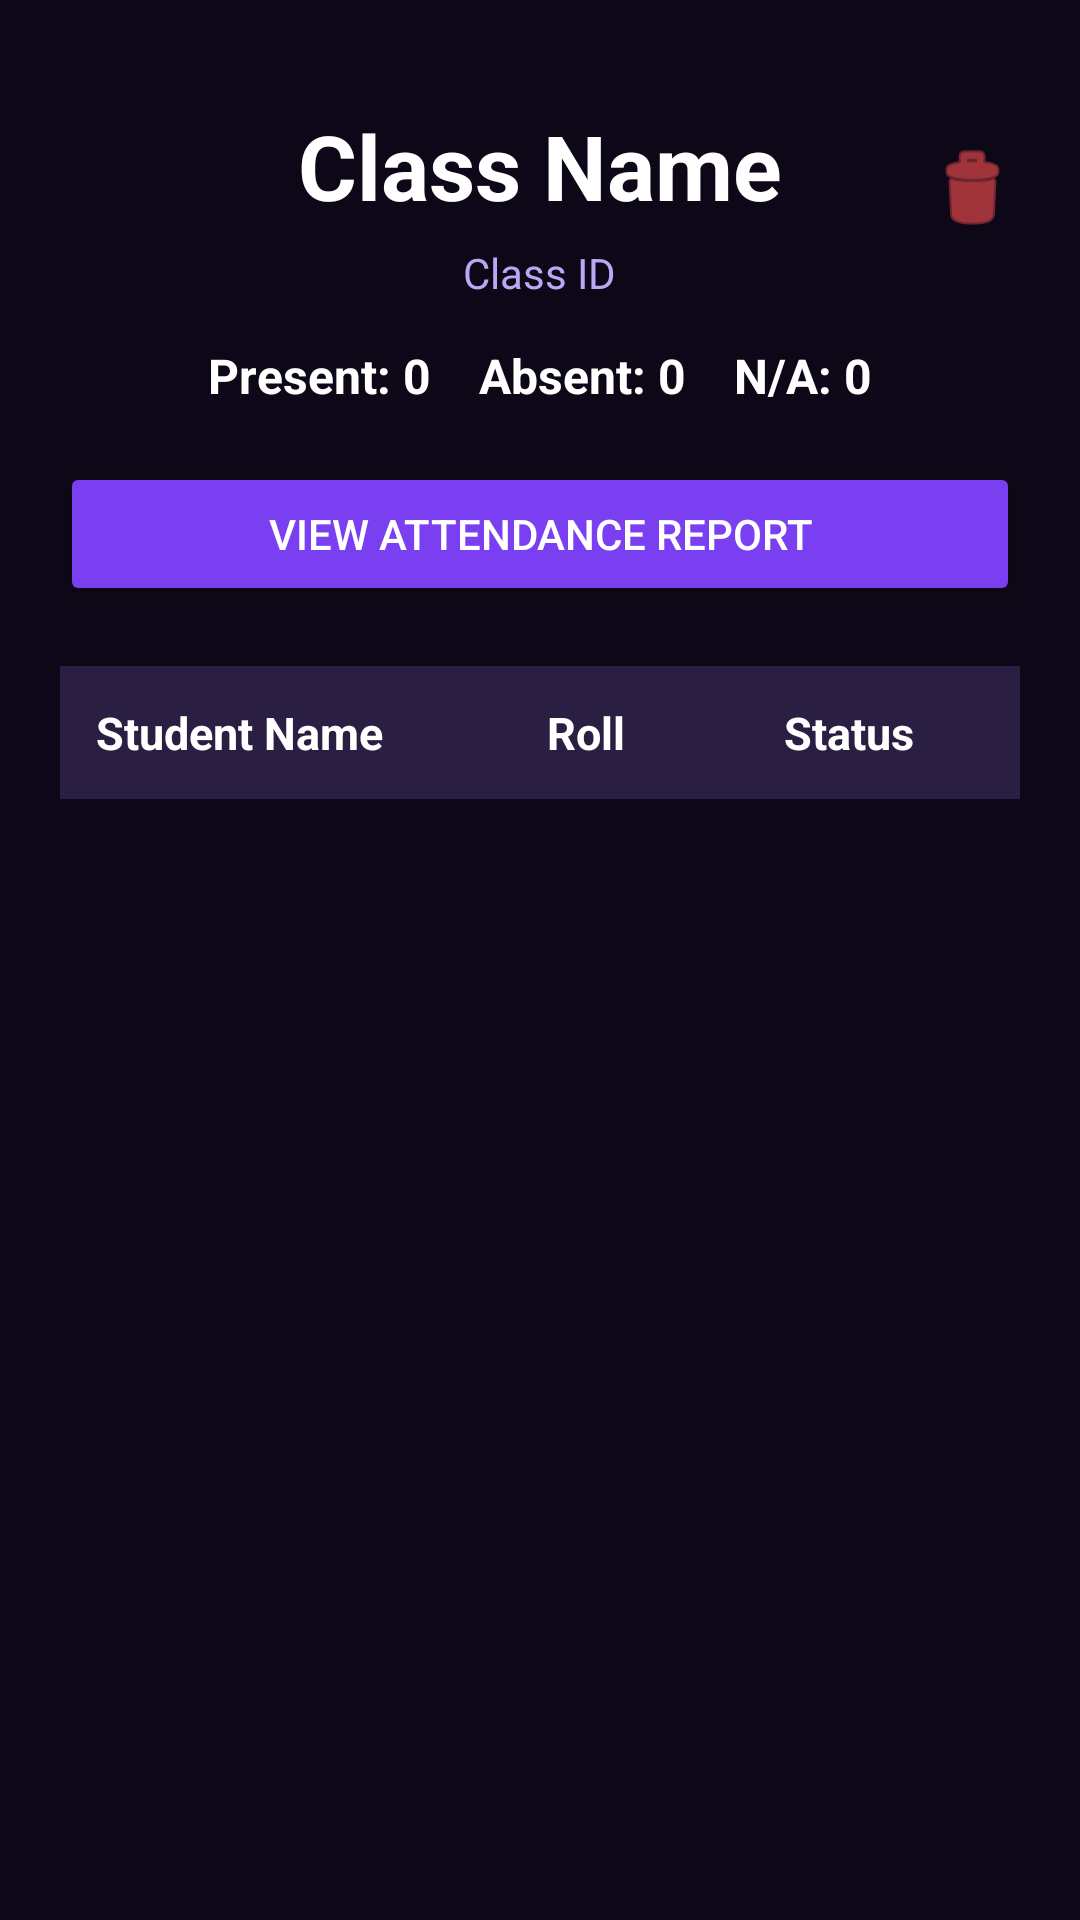

Screen size 1080*1920. Icon name, then its center in pixels as (x,y):
delete: (972,187)
